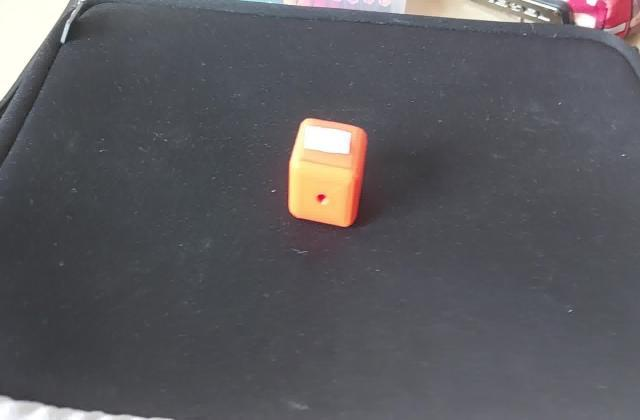cube: (282, 112, 369, 232)
white: (304, 127, 358, 159)
